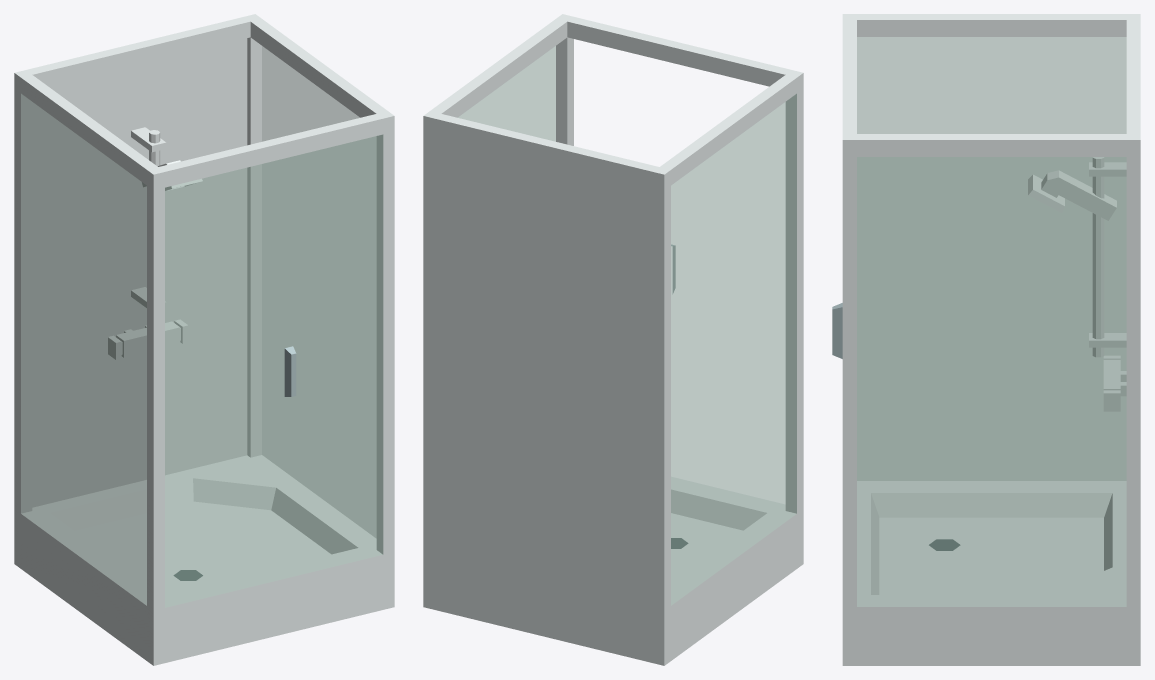
Rendered from furn_shower.glb.
The picture shows the model from 3 angles, left to right: view 1: azimuth 30°, elevation 25°; view 2: azimuth 150°, elevation 25°; view 3: azimuth 270°, elevation 25°; orthographic projection. The views are drawn at different scales.
Visible parts, largest first — view 1: shower(Clone), doorRight, doorLeft; view 2: shower(Clone); view 3: shower(Clone), doorRight.
Part boxes in pixels (box(x1,y1,x2,y2)): shower(Clone): box(14, 14, 394, 665); doorRight: box(274, 134, 383, 581); doorLeft: box(165, 161, 273, 607); shower(Clone): box(423, 14, 803, 665); shower(Clone): box(842, 14, 1140, 665); doorRight: box(832, 303, 842, 358).
Size of the model in its own units: 0.5618 by 1.09 by 0.5818.
